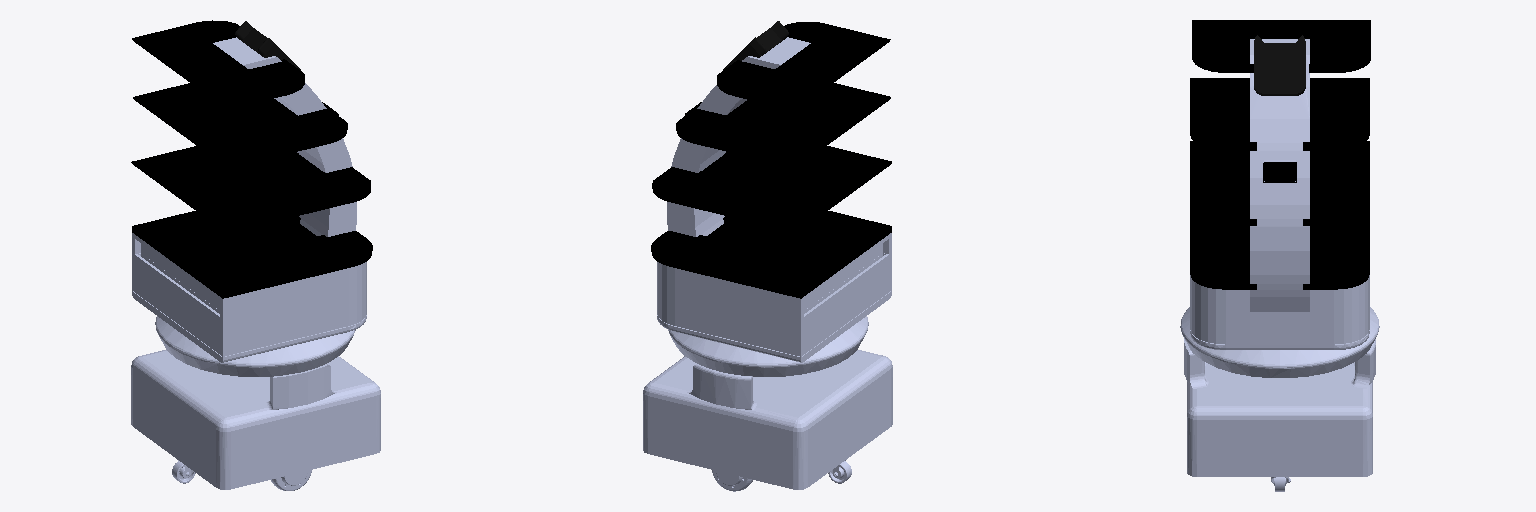
The robot description file, URDF, robot "hospital_bot":
<?xml version="1.0" encoding="utf-8"?>
<!-- This URDF was automatically created by SolidWorks to URDF Exporter! Originally created by [author] ([email redacted]) 
     Commit Version: 1.6.0-4-g7f85cfe  Build Version: 1.6.7995.38578
     For more information, please see http://wiki.ros.org/sw_urdf_exporter -->
<robot
  name="hospital_bot">

  <link name="base_footprint"/>

  <link
    name="base_link">
    <inertial>
      <origin
        xyz="0.046938 0 0.36047"
        rpy="0 0 0" />
      <mass
        value="42" />
      <inertia
        ixx="5.0301"
        ixy="-0.00018229"
        ixz="-0.73275"
        iyy="5.2375"
        iyz="-0.0002395"
        izz="1.8786" />
    </inertial>
    <visual>
      <origin
        xyz="0 0 -0.002"
        rpy="0 0 0" />
      <geometry>
        <mesh
          filename="package://hospital_bot/description/meshes/stl/base_link.STL" />
      </geometry>
      <material
        name="">
        <color
          rgba="0.79216 0.81961 0.93333 1" />
      </material>
    </visual>
    <collision>
      <origin
        xyz="0 0 -0.002"
        rpy="0 0 0" />
      <geometry>
        <mesh
          filename="package://hospital_bot/description/meshes/stl/base_link.STL" />
      </geometry>
    </collision>
  </link>


  <link
    name="wheel_r">
    <inertial>
      <origin
        xyz="-0.0321811166739466 0 0"
        rpy="0 0 0" />
      <mass
        value="2" />
      <inertia
        ixx="0.000779700589773781"
        ixy="0"
        ixz="0"
        iyy="0.000422843653180422"
        iyz="0"
        izz="0.00042284916188285" />
    </inertial>
    <visual>
      <origin
        xyz="0 0 0"
        rpy="0 0 0" />
      <geometry>
        <mesh
          filename="package://hospital_bot/description/meshes/stl/wheel_r.STL" />
      </geometry>
      <material
        name="Rubber">
        <color
          rgba="0.792156862745098 0.819607843137255 0.933333333333333 1" />
      </material>
    </visual>
    <collision>
      <origin
        xyz="0 0 0"
        rpy="0 0 0" />
      <geometry>
        <mesh
          filename="package://hospital_bot/description/meshes/stl/wheel_r.STL" />
      </geometry>
    </collision>
  </link>
  
  <link
    name="lidar">
    <inertial>
      <origin
        xyz="0.000565454433332113 0 0.0192985480594141"
        rpy="0 0 0" />
      <mass
        value="0.7" />
      <inertia
        ixx="0"
        ixy="0"
        ixz="0"
        iyy="0"
        iyz="0"
        izz="0.000109946753058708" />
    </inertial>
    <visual>
      <origin
        xyz="0 0 0"
        rpy="0 0 0" />
      <geometry>
        <mesh
          filename="package://hospital_bot/description/meshes/stl/lidar.STL" />
      </geometry>
      <material
        name="">
        <color
          rgba="0.752941176470588 0.752941176470588 0.752941176470588 0.4" />
      </material>
    </visual>
    <collision>
      <origin
        xyz="0 0 0"
        rpy="0 0 0" />
      <geometry>
        <mesh
          filename="package://hospital_bot/description/meshes/stl/lidar.STL" />
      </geometry>
    </collision>
  </link>
  
  <link
    name="camera">
    <inertial>
      <origin
        xyz="-0.0197753693988049 0.0075270431497297 -0.00225150612347791"
        rpy="0 0 0" />
      <mass
        value="0.3" />
      <inertia
        ixx="0"
        ixy="0"
        ixz="0"
        iyy="0"
        iyz="0"
        izz="0" />
    </inertial>
    <visual>
      <origin
        xyz="0 0 0"
        rpy="0 0 0" />
      <geometry>
        <mesh
          filename="package://hospital_bot/description/meshes/stl/camera.STL" />
      </geometry>
      <material
        name="">
        <color
          rgba="0 0 0 1" />
      </material>
    </visual>
    <collision>
      <origin
        xyz="0 0 0"
        rpy="0 0 0" />
      <geometry>
        <mesh
          filename="package://hospital_bot/description/meshes/stl/camera.STL" />
      </geometry>
    </collision>
  </link>
  
  <link
    name="surab">
    <inertial>
      <origin
        xyz="0 0.0906533712392535 0.0173397517103782"
        rpy="0 0 0" />
      <mass
        value="5" />
      <inertia
        ixx="0.899159538665213"
        ixy="0"
        ixz="0"
        iyy="1.73764210519367"
        iyz="0.000237785495740509"
        izz="1.06247031877449" />
    </inertial>
    <visual>
      <origin
        xyz="0 0 0"
        rpy="0 0 0" />
      <geometry>
        <mesh
          filename="package://hospital_bot/description/meshes/stl/surab.STL" />
      </geometry>
      <material
        name="">
        <color
          rgba="0.792156862745098 0.819607843137255 0.933333333333333 1" />
      </material>
    </visual>
    <collision>
      <origin
        xyz="0 0 0"
        rpy="0 0 0" />
      <geometry>
        <mesh
          filename="package://hospital_bot/description/meshes/stl/surab.STL" />
      </geometry>
    </collision>
  </link>
  
  <link
    name="sunban">
    <inertial>
      <origin
        xyz="-0.000793683288460259 0.25939148323271 -0.227271322564606"
        rpy="0 0 0" />
      <mass
        value="6" />
      <inertia
        ixx="0.289185444183791"
        ixy="0"
        ixz="0"
        iyy="0.663714612054266"
        iyz="-0.000232364840895673"
        izz="0.375647753963373" />
    </inertial>
    <visual>
      <origin
        xyz="0 0 0"
        rpy="0 0 0" />
      <geometry>
        <mesh
          filename="package://hospital_bot/description/meshes/stl/sunban.STL" />
      </geometry>
      <material
        name="">
        <color
          rgba="0 0 0 1" />
      </material>
    </visual>
    <collision>
      <origin
        xyz="0 0 0"
        rpy="0 0 0" />
      <geometry>
        <mesh
          filename="package://hospital_bot/description/meshes/stl/sunban.STL" />
      </geometry>
    </collision>
  </link>
  
  <link
    name="monitor">
    <inertial>
      <origin
        xyz="0 0.0250425722260409 -0.00395495330955042"
        rpy="0 0 0" />
      <mass
        value="2" />
      <inertia
        ixx="0.0022560414123335"
        ixy="0"
        ixz="0"
        iyy="0.00403859946143406"
        iyz="0"
        izz="0.00225779969468586" />
    </inertial>
    <visual>
      <origin
        xyz="0 0 0"
        rpy="0 0 0" />
      <geometry>
        <mesh
          filename="package://hospital_bot/description/meshes/stl/monitor.STL" />
      </geometry>
      <material
        name="">
        <color
          rgba="0.101960784313725 0.101960784313725 0.101960784313725 1" />
      </material>
    </visual>
    <collision>
      <origin
        xyz="0 0 0"
        rpy="0 0 0" />
      <geometry>
        <mesh
          filename="package://hospital_bot/description/meshes/stl/monitor.STL" />
      </geometry>
    </collision>
  </link>
  
  <link
    name="wheel_l">
    <inertial>
      <origin
        xyz="-0.0321811166739313 0 0"
        rpy="0 0 0" />
      <mass
        value="2" />
      <inertia
        ixx="0.000779700589774398"
        ixy="0"
        ixz="0"
        iyy="0.000422839949640887"
        iyz="0"
        izz="0.000422852865423091" />
    </inertial>
    <visual>
      <origin
        xyz="0 0 0"
        rpy="0 0 0" />
      <geometry>
        <mesh
          filename="package://hospital_bot/description/meshes/stl/wheel_l.STL" />
      </geometry>
      <material
        name="Rubber">
        <color
          rgba="0.792156862745098 0.819607843137255 0.933333333333333 1" />
      </material>
    </visual>
    <collision>
      <origin
        xyz="0 0 0"
        rpy="0 0 0" />
      <geometry>
        <mesh
          filename="package://hospital_bot/description/meshes/stl/wheel_l.STL" />
      </geometry>
    </collision>
  </link>


  <!-- for joint -->
  <joint name="base_footprint_to_base_link" 
    type="fixed">
    <parent link="base_footprint"/>
    <child link="base_link"/>
    <origin xyz="0 0 0.082" rpy="0 0 0"/>
  </joint>

  <joint
    name="joint_r"
    type="continuous">
    <origin
      xyz="-0.0016115 0.229 -0.020269"
      rpy="1.5708 0 1.5708" />
    <parent
      link="base_link" />
    <child
      link="wheel_r" />
    <axis
      xyz="1 0 0" />
    <!-- <limit
      lower="0"
      upper="0"
      effort="0"
      velocity="0" /> -->
  </joint>

  <joint
    name="joint_l"
    type="continuous">
    <origin
      xyz="-0.0016115 -0.229 -0.020269"
      rpy="0 0 -1.5708" />
    <parent
      link="base_link" />
    <child
      link="wheel_l" />
    <axis
      xyz="-1 0 0" />
    <!-- <limit
      lower="0"
      upper="0"
      effort="0"
      velocity="0" /> -->
  </joint>

  <joint
    name="joint_lidar"
    type="fixed">
    <origin
      xyz="0 0 0.23"
      rpy="0 0 0" />
    <parent
      link="base_link" />
    <child
      link="lidar" />
    <axis
      xyz="0 0 1" />
    <!-- <limit
      lower="0"
      upper="0"
      effort="0"
      velocity="0" /> -->
  </joint>

  <joint
    name="joint_camera"
    type="fixed">
    <origin
      xyz="0.246763183078283 -0.00833335958428078 0.941940271292447"
      rpy="0 0 0" />
    <parent
      link="base_link" />
    <child
      link="camera" />
    <axis
      xyz="0 0 0" />
  </joint>

  <joint
    name="surab_j"
    type="fixed">
    <origin
      xyz="0 0 0.41"
      rpy="1.5707963267949 0 -1.5707963267949" />
    <parent
      link="base_link" />
    <child
      link="surab" />
    <axis
      xyz="0 0 0" />
  </joint>

  <joint
    name="sunban_j"
    type="fixed">
    <origin
      xyz="-0.258690732424951 0 0.59"
      rpy="1.5707963267949 0 -1.5707963267949" />
    <parent
      link="base_link" />
    <child
      link="sunban" />
    <axis
      xyz="0 0 0" />
    <!-- <limit
      lower="0"
      upper="0"
      effort="0"
      velocity="0" /> -->
  </joint>

  <joint
    name="monitor_j"
    type="fixed">
    <origin
      xyz="0.0281145179893907 -0.000217843036471599 1.15678589269231"
      rpy="2.43763345715047 0 1.5707963267949" />
    <parent
      link="base_link" />
    <child
      link="monitor" />
    <axis
      xyz="0 0 0" />
  </joint>


  <!-- for gazebo -->


  <gazebo reference="base_link">
    <mu1>0.001</mu1>
    <mu2>0.001</mu2>
    <material>Gazebo/Orange</material>
  </gazebo>

  <gazebo reference="wheel_l">
    <mu1>0.7</mu1>
    <mu2>0.7</mu2>
    <kp>500000.0</kp>
    <kd>10.0</kd>
    <material>Gazebo/Black</material>
    </gazebo>

  <gazebo reference="wheel_r">
    <mu1>0.7</mu1>
    <mu2>0.7</mu2>
    <kp>500000.0</kp>
    <kd>10.0</kd>
    <material>Gazebo/Black</material>
  </gazebo>

  <gazebo reference="monitor">
    <material>Gazebo/Black</material>
  </gazebo>

  <gazebo reference="surab">
    <material>Gazebo/Grey</material>
  </gazebo>

  <gazebo reference="sunban">
    <material>Gazebo/White</material>
  </gazebo>



  <gazebo>
    <plugin name="differential_drive_controller" filename="libgazebo_ros_diff_drive.so">
      <alwaysOn>true</alwaysOn>
      <updateRate>20</updateRate>
      <legacyMode>false</legacyMode>
      <leftJoint>joint_r</leftJoint>
      <rightJoint>joint_l</rightJoint>
      <wheelSeparation>0.32</wheelSeparation>
      <wheelDiameter>0.136</wheelDiameter>
      <wheelTorque>3.2</wheelTorque>
      <wheelAcceleration>1</wheelAcceleration>
      <commandTopic>cmd_vel</commandTopic>
      <odometryTopic>odom</odometryTopic>
      <odometryFrame>odom</odometryFrame>
      <odometrySource>world</odometrySource>
      <publishOdomTF>true</publishOdomTF>
      <publishWheelJointState>true</publishWheelJointState>
      <publishWheelTF>false</publishWheelTF>
      <publishTf>true</publishTf>
      <robotBaseFrame>base_footprint</robotBaseFrame>
      <rosDebugLevel>na</rosDebugLevel>
    </plugin>
  </gazebo>  


  <!--cameral link-->
  <gazebo reference="camera">
    <sensor type="camera" name="camera1">
      <update_rate>30.0</update_rate>
      <camera name="head">
        <horizontal_fov>1.57</horizontal_fov>
        <image>
              <width>1280</width>
              <height>800</height>
              <format>R8G8B8</format>
            </image>
        <clip>
          <near>0.06</near>
          <far>600</far>
        </clip>
        <noise>
          <type>gaussian</type>
          <mean>0.0</mean>
          <stddev>0.007</stddev>
        </noise>
      </camera>
      <plugin name="camera_controller" filename="libgazebo_ros_camera.so">
        <alwaysOn>true</alwaysOn>
            <updateRate>0.0</updateRate>
            <cameraName>camera1</cameraName>
            <imageTopicName>image_raw</imageTopicName>
            <cameraInfoTopicName>camera_info</cameraInfoTopicName>
            <frameName>camera</frameName>
            <hackBaseline>0.07</hackBaseline>
            <distortionK1>0.0</distortionK1>
            <distortionK2>0.0</distortionK2>
            <distortionK3>0.0</distortionK3>
            <distortionT1>0.0</distortionT1>
            <distortionT2>0.0</distortionT2>
        </plugin>
    </sensor>
    <material>Gazebo/Black</material>
  </gazebo> 

  <gazebo reference="lidar">
    <material>Gazebo/Black</material>
    <sensor type="ray" name="head_hokuyo_sensor">
      <pose>0 0 0 0 0 0 </pose>
      <visualize>false</visualize>
      <update_rate>30</update_rate>
      <ray>
        <scan>
          <horizontal>
            <samples>720</samples>
            <resolution>1</resolution>
            <min_angle>-3.14</min_angle>
            <max_angle>3.14</max_angle>
          </horizontal>
        </scan>
        <range>
          <min>0.3</min>   
         <max>10.0</max>
          <resolution>0.01</resolution>
        </range>
        <noise>
          <type>gaussian</type>
          <mean>0.0</mean>
          <stddev>0.01</stddev>
        </noise>
      </ray>
      <plugin name="gazebo_ros_head_hokuyo_controller" filename="libgazebo_ros_laser.so">
        <topicName>/laser/scan</topicName>
        <frameName>lidar</frameName>
      </plugin>
    </sensor>
  </gazebo>
</robot>

--- What the picture shows (computed from the rendered views, not written in the file) ---
Views: 3 orthographic renders of the robot side by side, from view 1: azimuth 30°, elevation 25°; view 2: azimuth 150°, elevation 25°; view 3: azimuth 270°, elevation 25°.
Model hospital_bot with 9 links and 8 joints (2 continuous, 6 fixed), rooted at base_footprint, posed every joint at zero.
Links seen in each view (by area): view 1: sunban, base_link, surab, monitor; view 2: sunban, base_link, surab, monitor; view 3: base_link, sunban, surab, monitor, camera.
Boxes of the visible links, x1=… form: sunban: x1=131, y1=20, x2=372, y2=298; base_link: x1=131, y1=37, x2=380, y2=489; surab: x1=132, y1=233, x2=366, y2=356; monitor: x1=235, y1=21, x2=300, y2=70; sunban: x1=651, y1=22, x2=891, y2=298; base_link: x1=643, y1=37, x2=892, y2=489; surab: x1=657, y1=233, x2=891, y2=356; monitor: x1=723, y1=21, x2=788, y2=69; base_link: x1=1180, y1=39, x2=1379, y2=491; sunban: x1=1190, y1=20, x2=1370, y2=289; surab: x1=1190, y1=160, x2=1369, y2=344; monitor: x1=1254, y1=35, x2=1305, y2=95; camera: x1=1263, y1=162, x2=1296, y2=182.
Size in the robot's own frame: 0.5664 by 0.5669 by 1.35 metres.
Meshes: 8 distinct files referenced, 8 mesh visuals loaded (8 binary STL).
